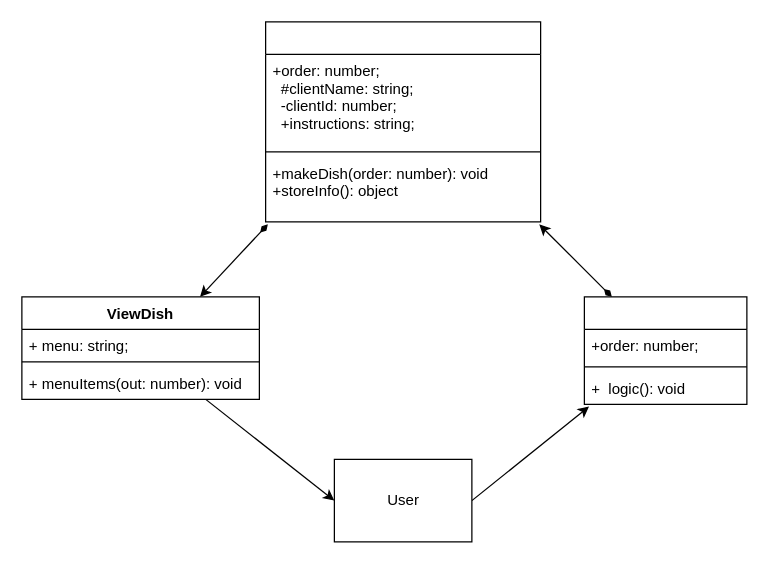
Image size: 769x564. Some labels were removed from this diagram. Each missing label, with the box of its shape:
ControllerWaiter: (583, 296, 747, 404)
ModelKitchen: (264, 21, 541, 222)
